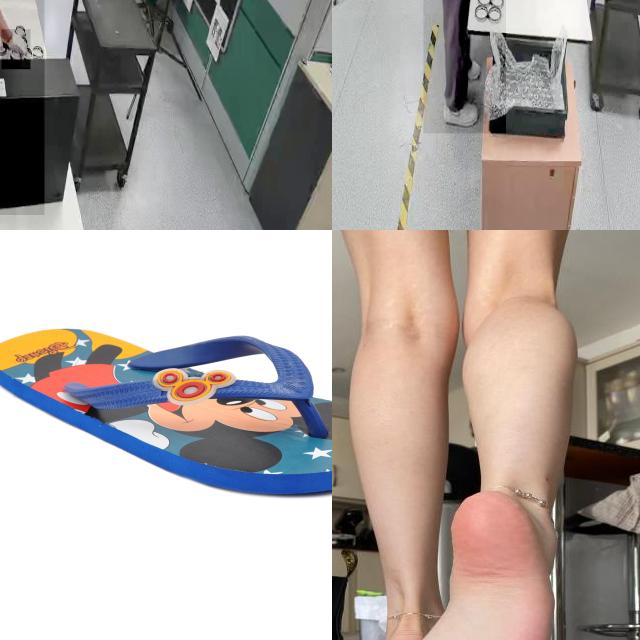Barefoots: (395, 485, 560, 640)
Sandals: (0, 326, 332, 497)
hand_glove: (1, 29, 31, 70)
person: (423, 0, 506, 134)
shoes: (439, 94, 481, 131)
